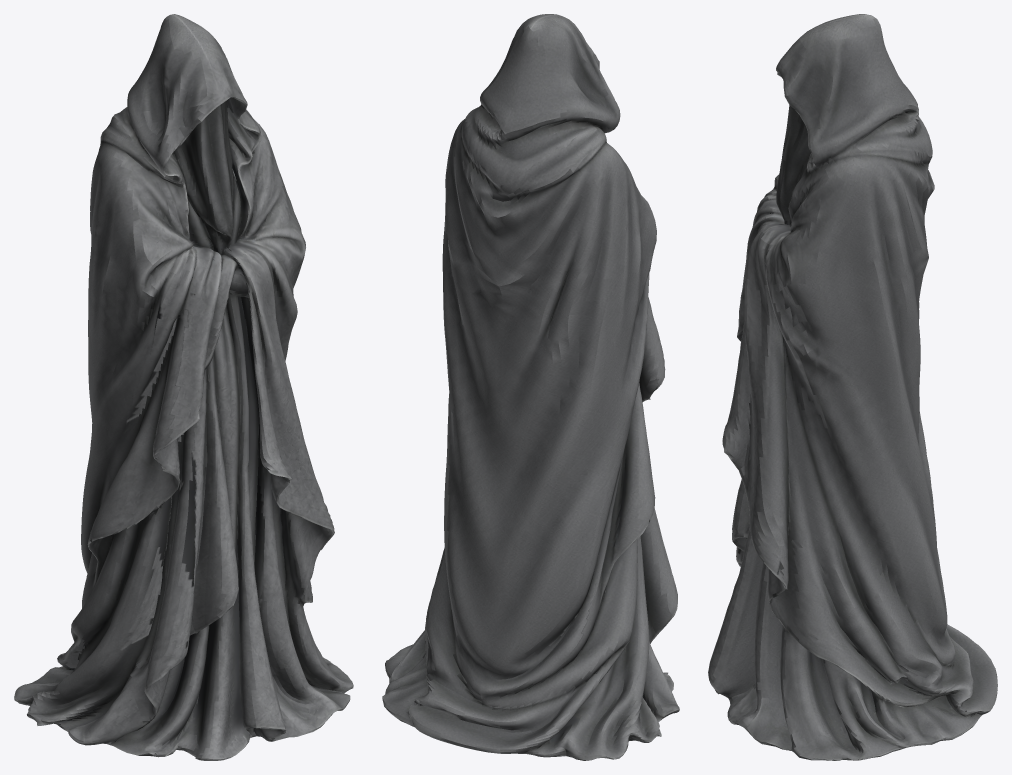
Rendered from SoulCloakFigureQuads.glb.
3 renders of one model, left to right at view 1: azimuth 30°, elevation 25°; view 2: azimuth 150°, elevation 25°; view 3: azimuth 270°, elevation 25°, orthographic.
Parts seen in each view (by area): view 1: Mesh0; view 2: Mesh0; view 3: Mesh0.
Part boxes in pixels (x1,y1,x2,y2): Mesh0: (14,14,353,760); Mesh0: (382,14,679,760); Mesh0: (708,14,997,760).
Bounding box in the file's own units: 0.8314 × 1.9 × 0.7406.
1 material, 1 textured.
